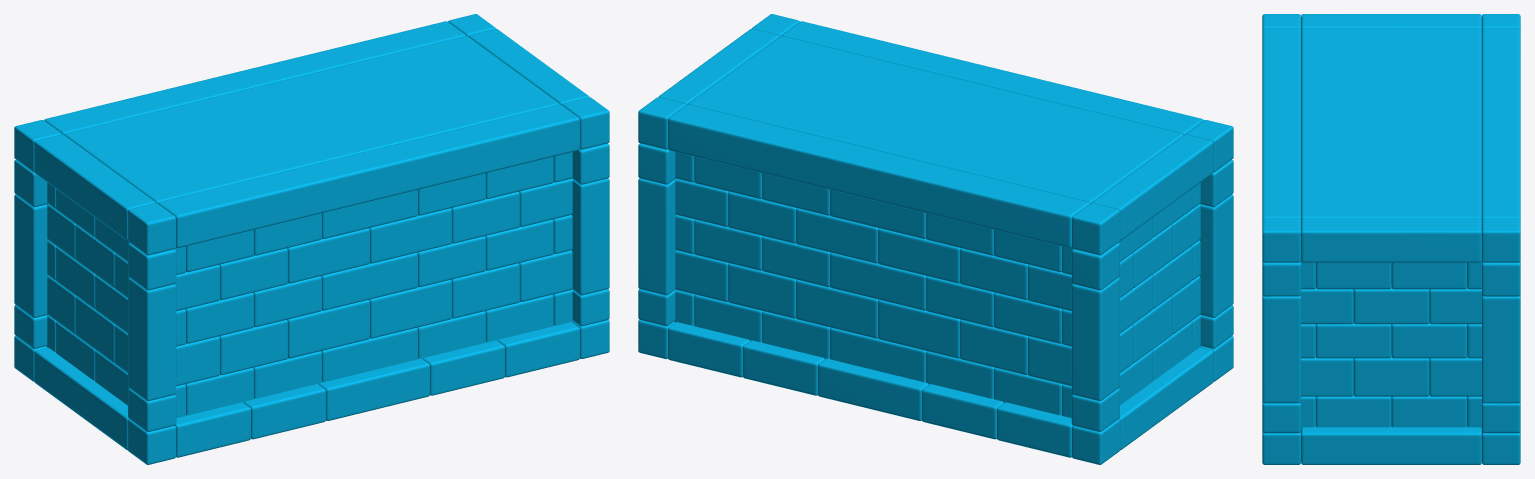
The model's file is SM_Stone_Body_06.fbx.
3 renders of one model, left to right at view 1: azimuth 30°, elevation 25°; view 2: azimuth 150°, elevation 25°; view 3: azimuth 270°, elevation 25°, orthographic. The views are drawn at different scales.
Visible parts, largest first — view 1: SM_Stone_Body_06; view 2: SM_Stone_Body_06; view 3: SM_Stone_Body_06.
Boxes of the visible parts, x1,y1,x2,y2 form: SM_Stone_Body_06: [14, 14, 609, 464]; SM_Stone_Body_06: [638, 14, 1233, 464]; SM_Stone_Body_06: [1262, 14, 1520, 464].
Bounding box in the file's own units: 5 × 2.5 × 2.5.
